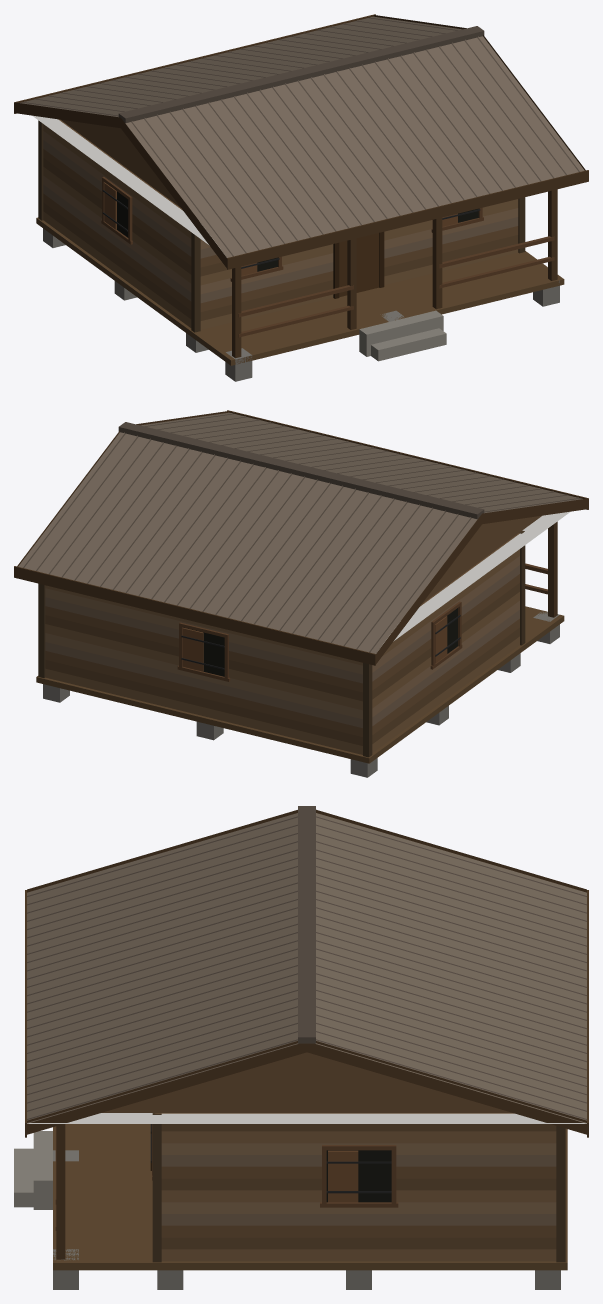
File: ns_wood.glb
The picture shows the model from 3 angles, top to bottom: view 1: azimuth 30°, elevation 25°; view 2: azimuth 150°, elevation 25°; view 3: azimuth 270°, elevation 25°; orthographic projection. The views are drawn at different scales.
Visible parts, largest first — view 1: ns_wood; view 2: ns_wood; view 3: ns_wood.
Boxes of the visible parts, bbox=[...] form: ns_wood: bbox=[14, 14, 588, 381]; ns_wood: bbox=[14, 410, 588, 777]; ns_wood: bbox=[14, 806, 588, 1289].
Size of the model in its own units: 8.46 by 4.47 by 8.83.
